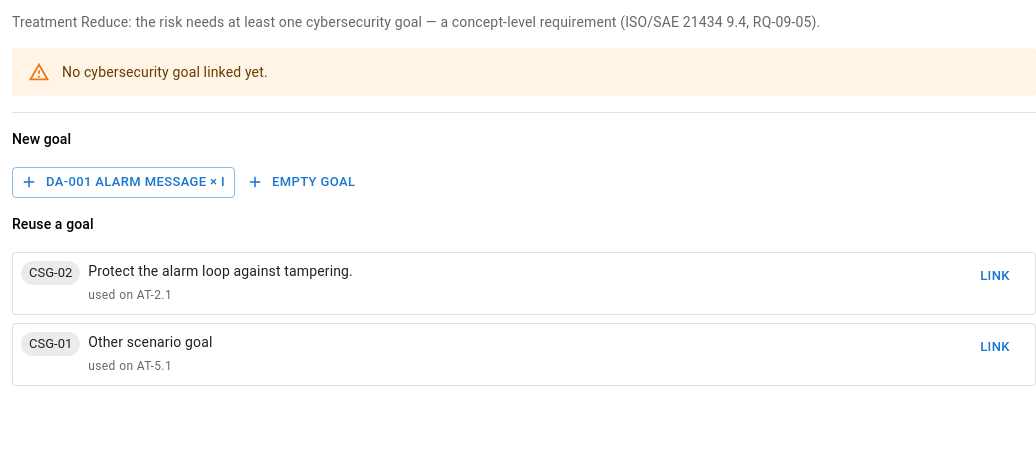
Test: Goal / Claim tab › reuse: same scenario first, full text as preview, one click links
Check: the element with test id "reuse-CSG-02" shows "Protect the alarm loop against tampering.", box left=88, top=263, right=353, bottom=279
Check: the element with test id "reuse-CSG-02" shows "used on AT-2.1", box left=88, top=288, right=172, bottom=302
Click the button with test id "reuse-link-CSG-02" at (995, 276), box left=963, top=261, right=1027, bottom=292
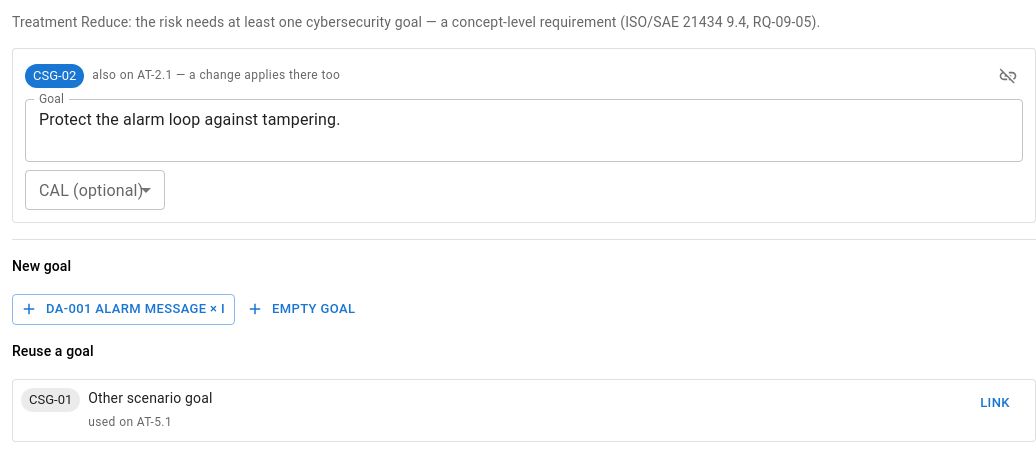
Check: the element with test id "goal-CSG-02" shows "also on AT-2.1", box left=92, top=68, right=340, bottom=82
